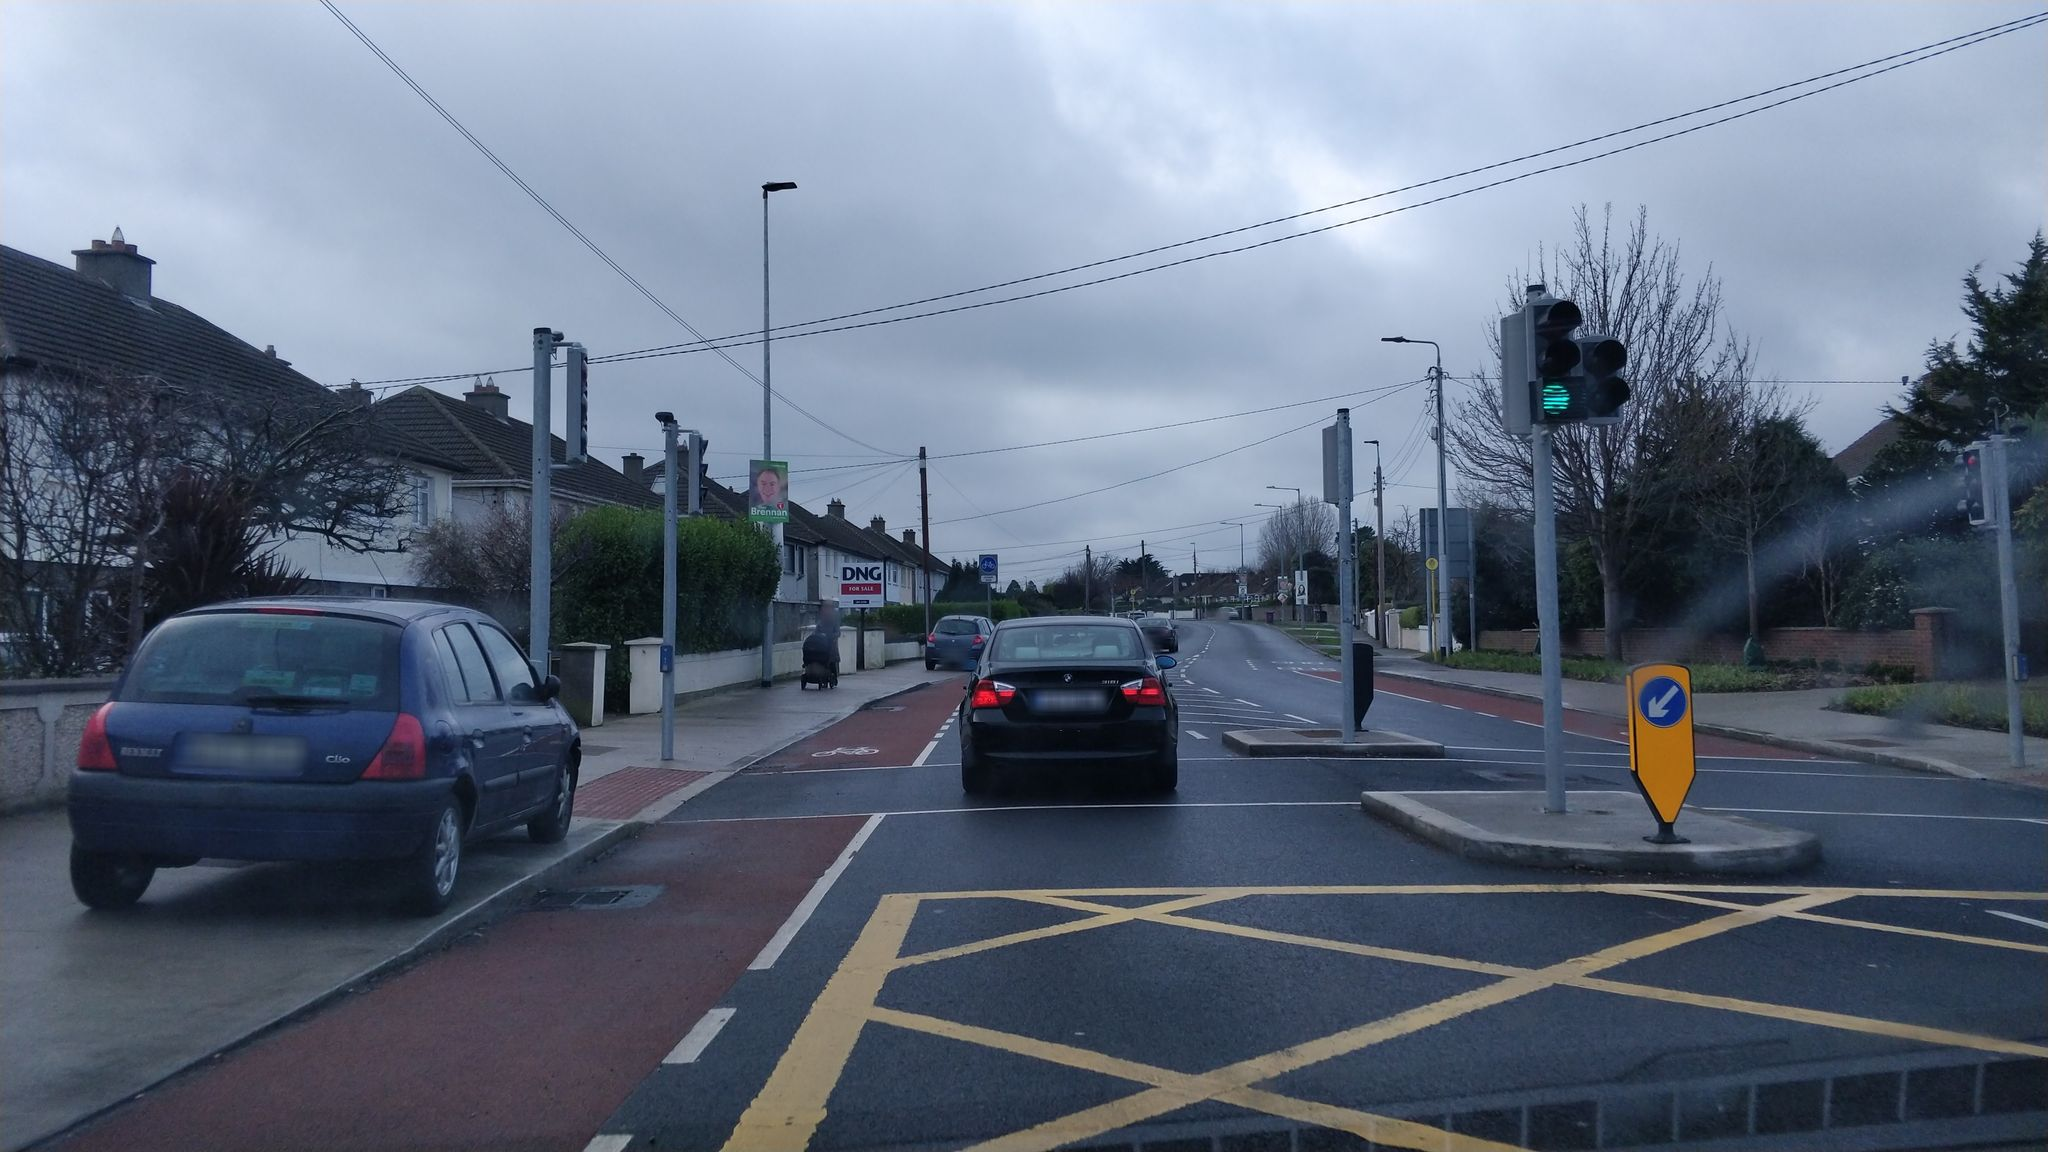property sign: (828, 547, 888, 620)
